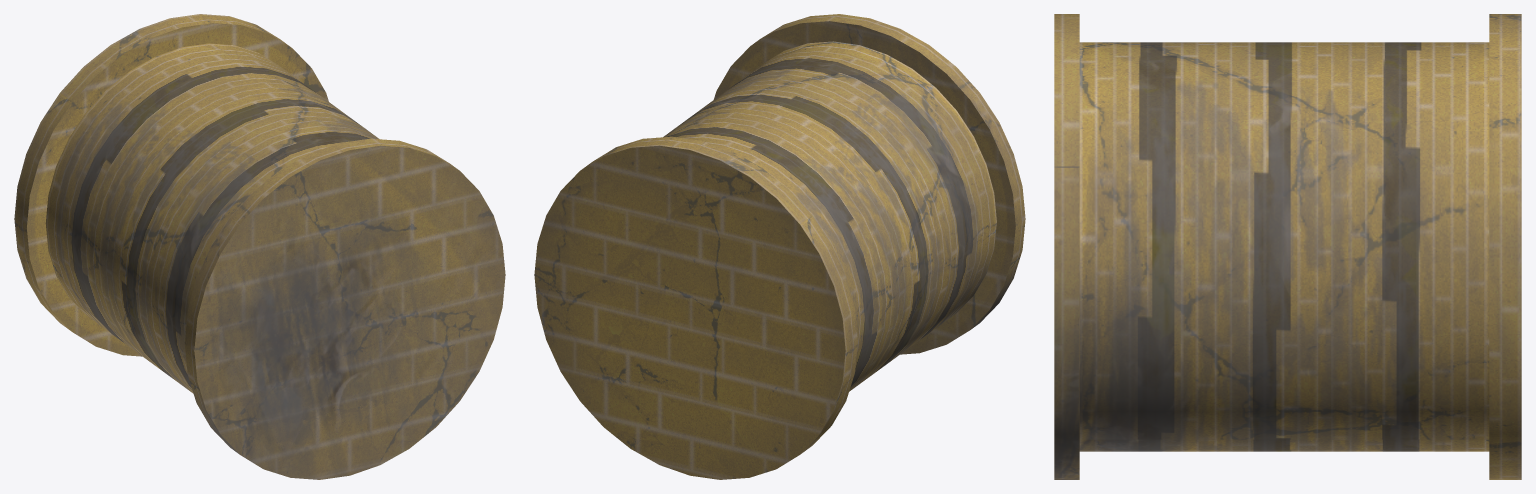
File: pillar_1.fbx
3 renders of one model, left to right at view 1: azimuth 30°, elevation 25°; view 2: azimuth 150°, elevation 25°; view 3: azimuth 270°, elevation 25°, orthographic. The views are drawn at different scales.
Parts seen in each view (by area): view 1: pillar_1; view 2: pillar_1; view 3: pillar_1.
Boxes of the visible parts, bbox=[...] form: pillar_1: bbox=[14, 14, 505, 479]; pillar_1: bbox=[534, 14, 1025, 479]; pillar_1: bbox=[1054, 14, 1521, 479].
Size of the model in its own units: 2.28 by 2.28 by 2.28.
